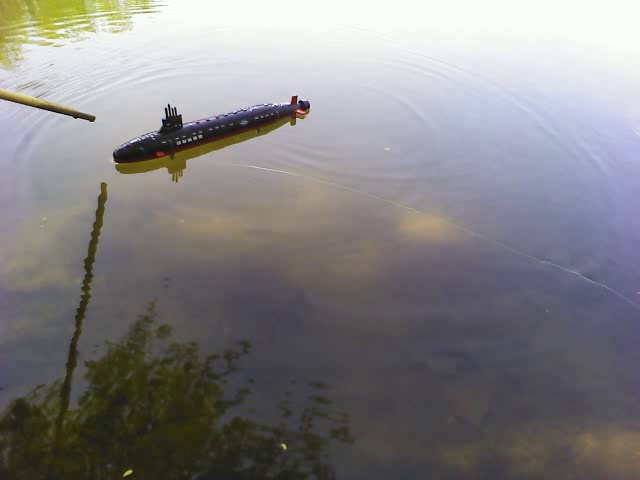submarine: (111, 91, 318, 172)
